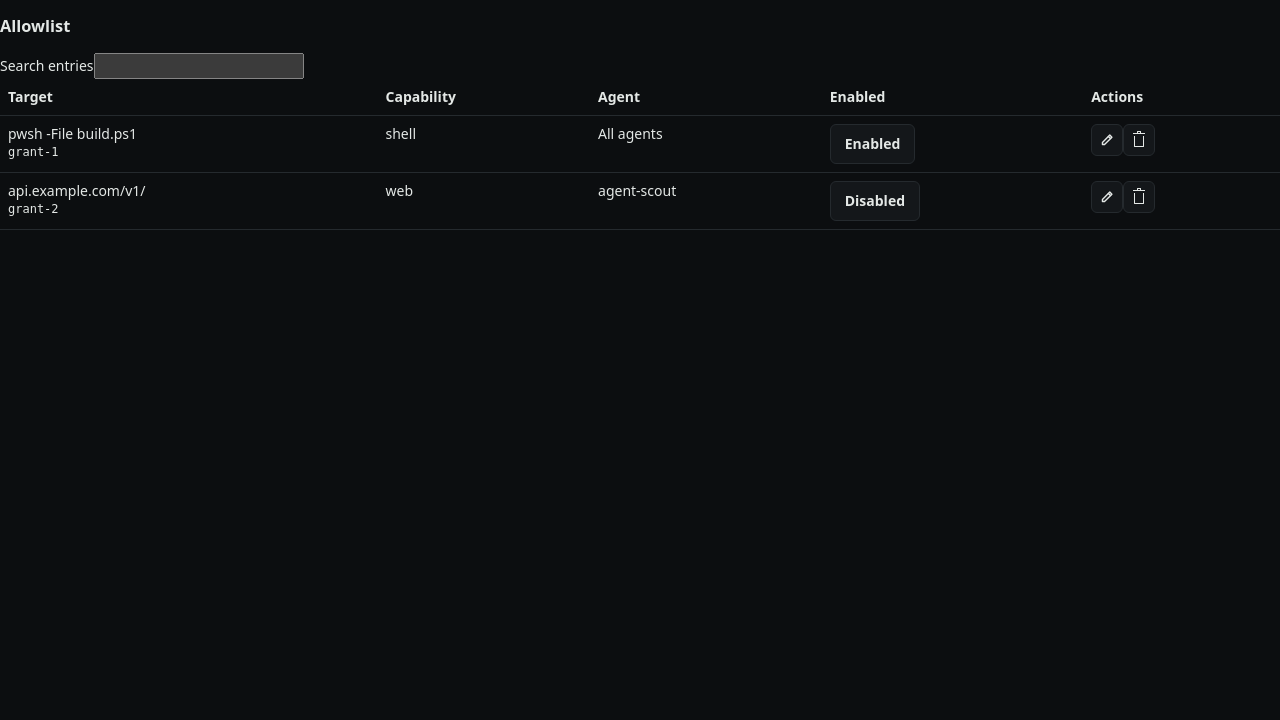
Test: AllowlistPanel edit › persists edited web scope through provider state
This screenshot has width=1280, height=720.
Step 1. Click the button named "edit api.example.com" → point(1107, 197), box [1091,181,1123,213]
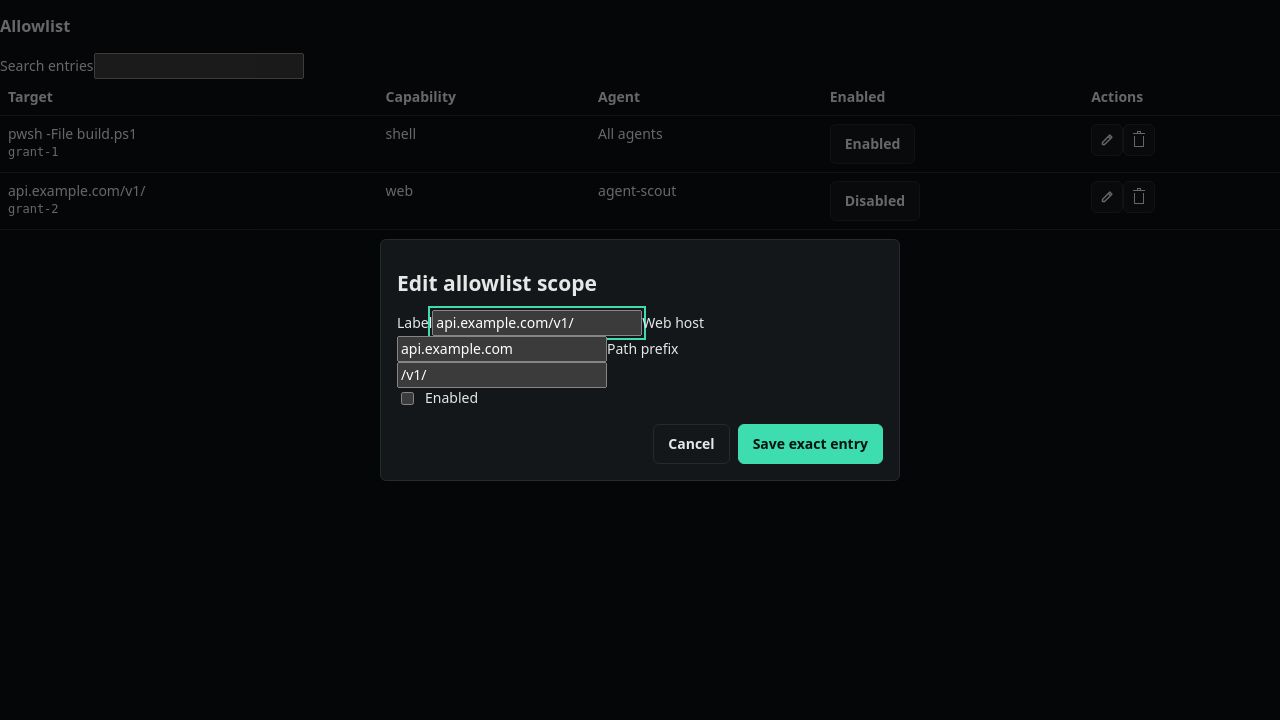
Step 2. Replace the text in the field labelled "Web host" with "api.staging.example.com" → point(502, 349), box [397,336,607,362]
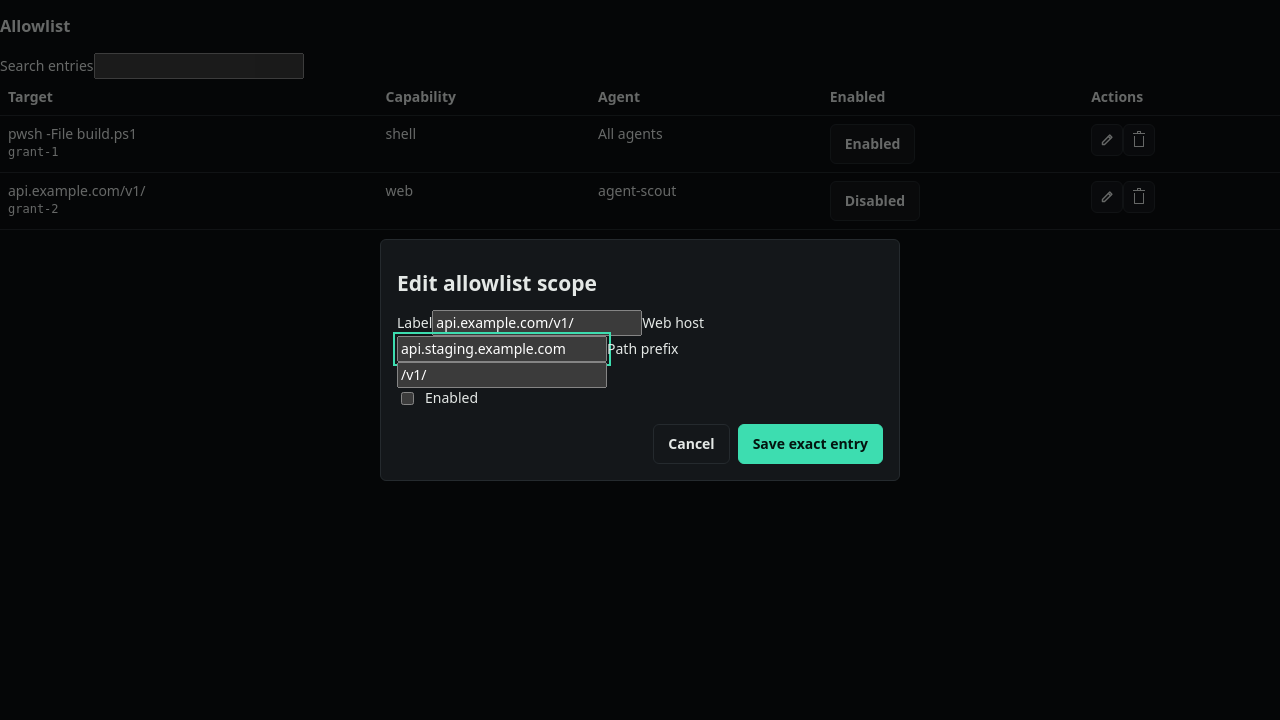
Step 3. Click the button "Save exact entry" → point(810, 444), box [738,424,883,464]
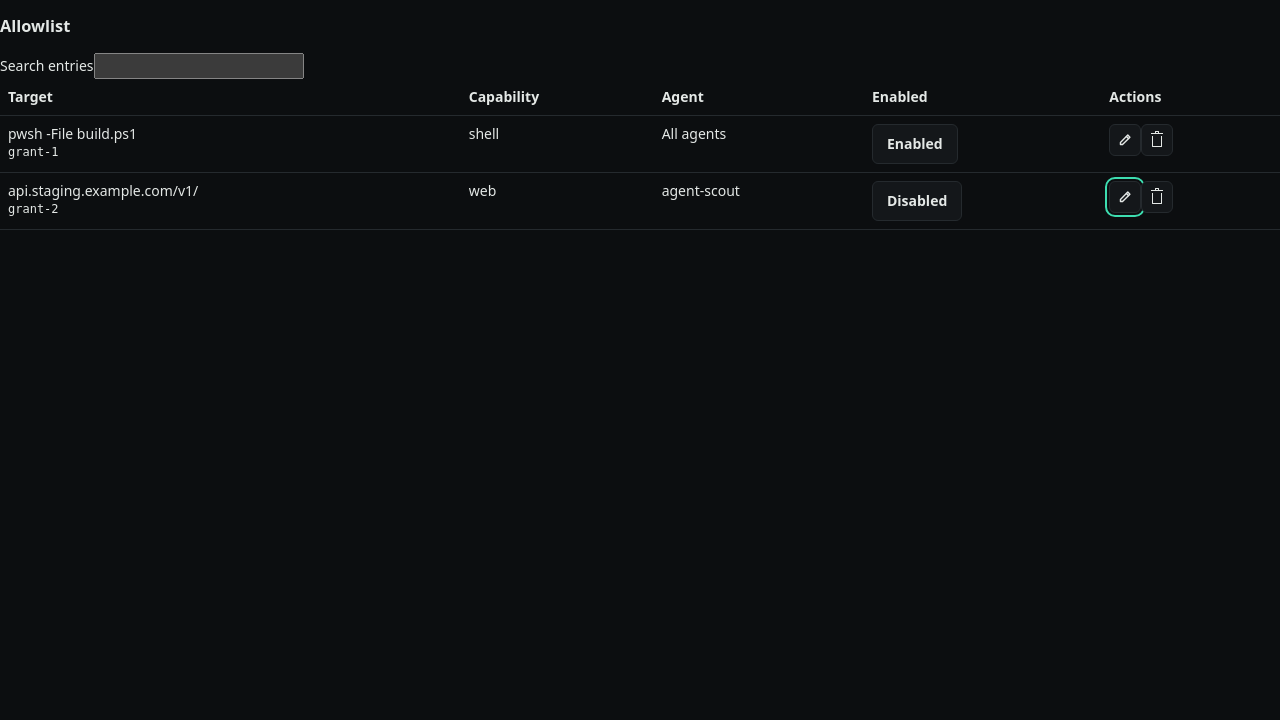
Expected: the text "api.staging.example.com/v1/" is shown, [8,181,198,200]
